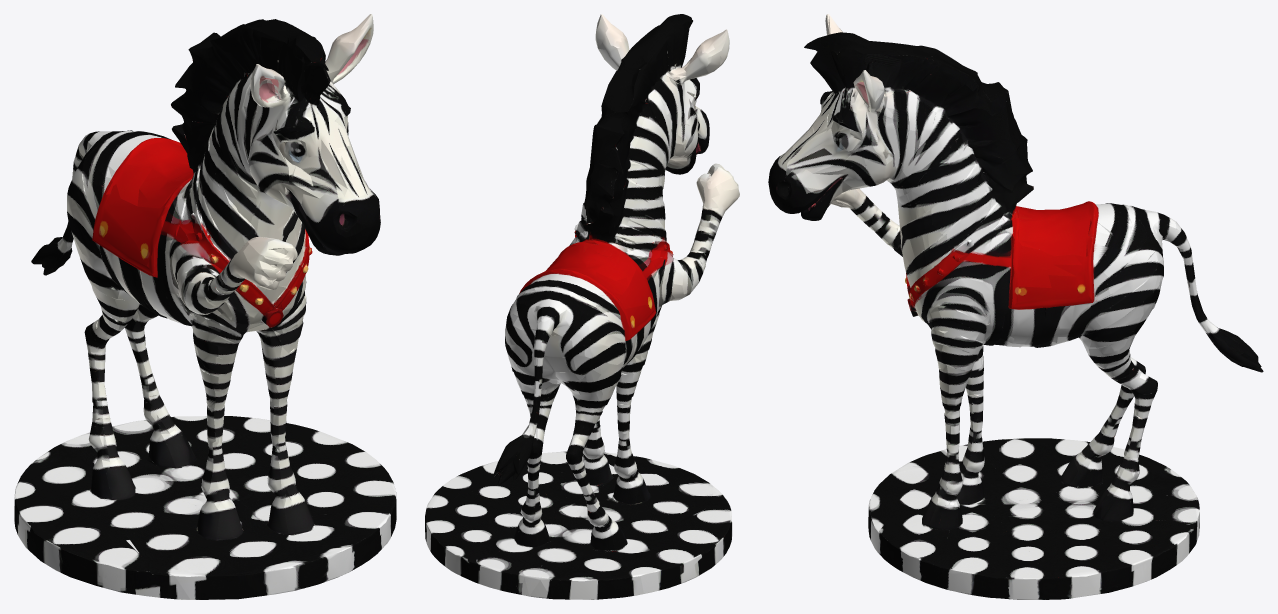
File: zebra.glb
3 renders of one model, left to right at view 1: azimuth 30°, elevation 25°; view 2: azimuth 150°, elevation 25°; view 3: azimuth 270°, elevation 25°, orthographic. The views are drawn at different scales.
Size of the model in its own units: 1.17 by 1.9 by 1.73.
Materials: 1 (1 with a texture image).
